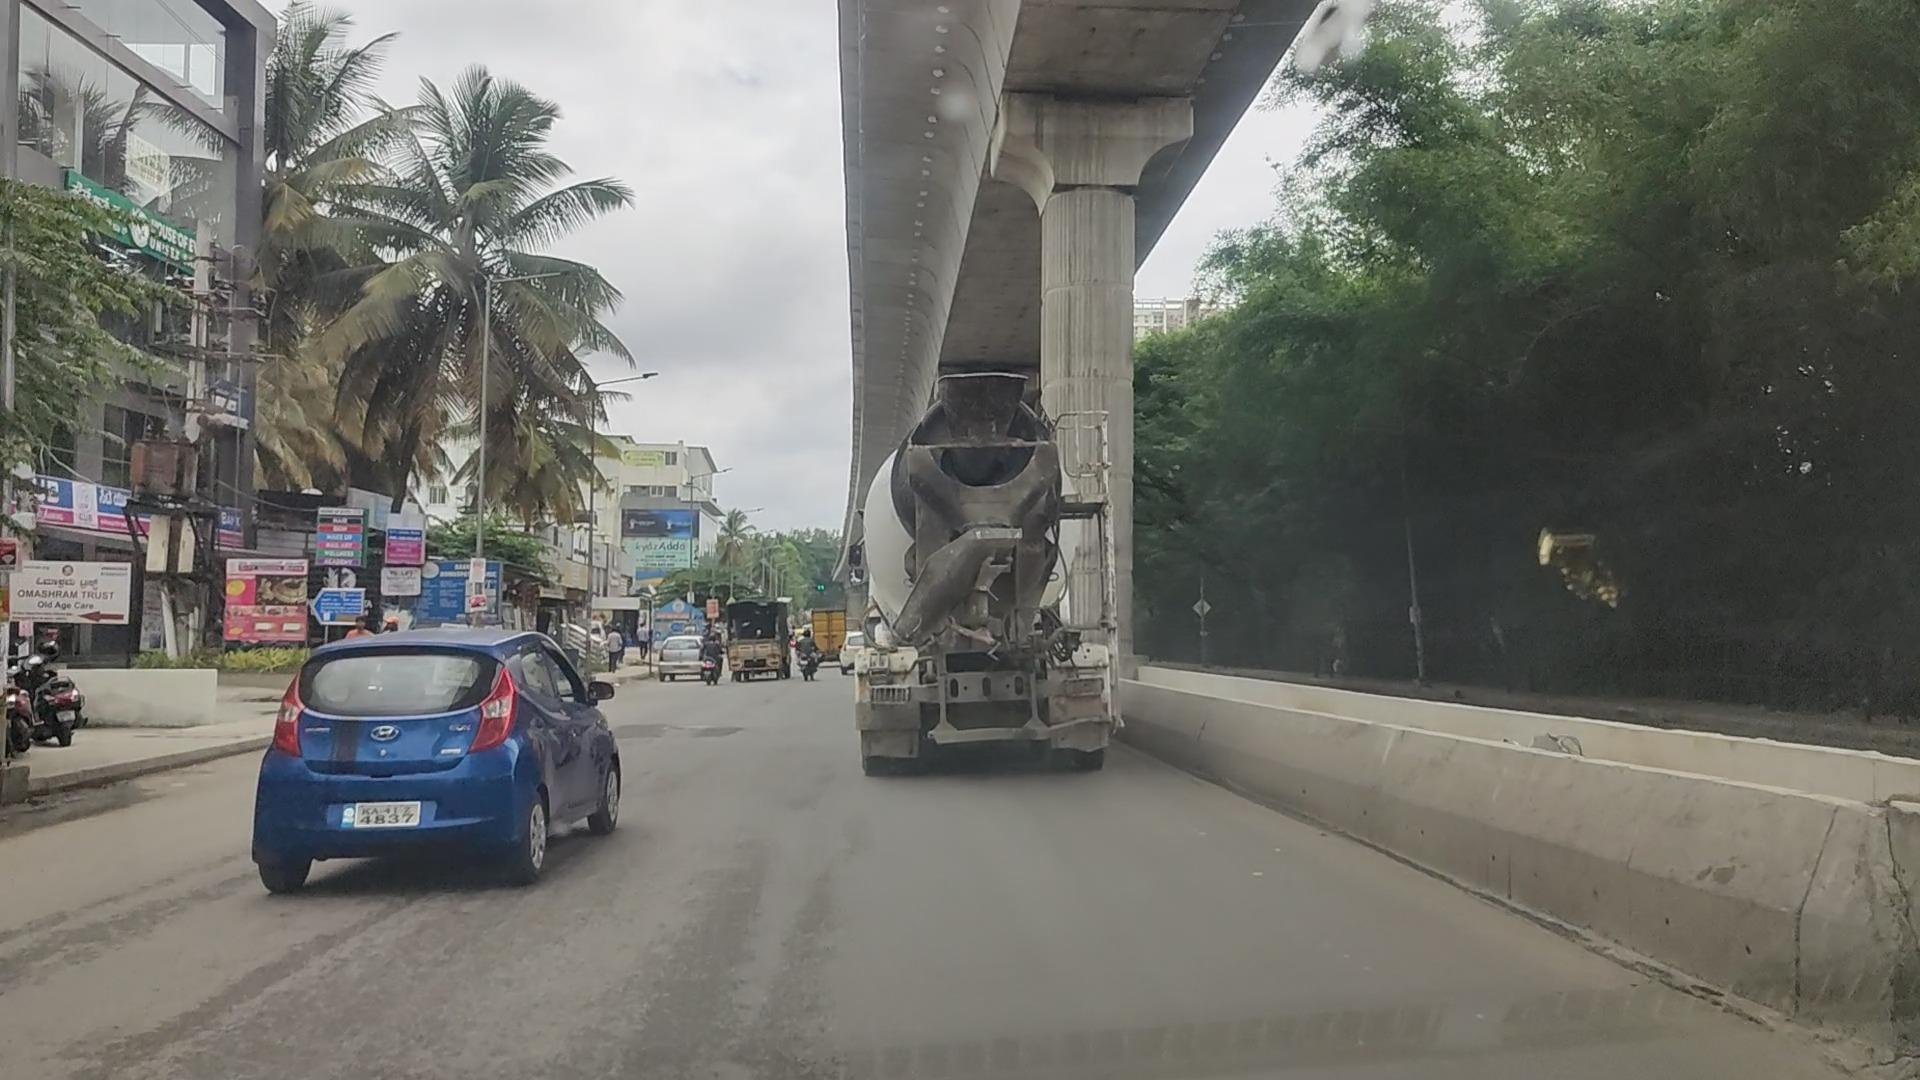HMV: (853, 371, 1121, 762)
LMV: (256, 626, 617, 885)
RoadDamages: (617, 713, 752, 749)
